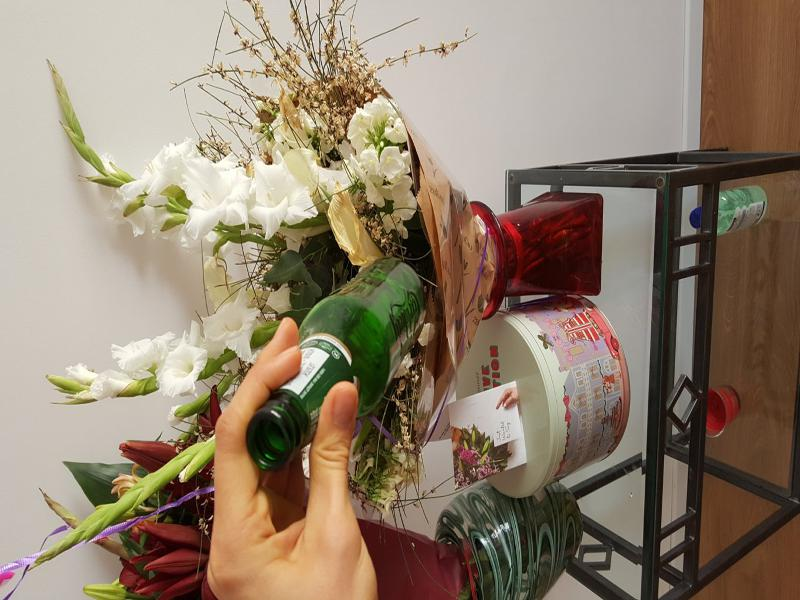Beer: (246, 259, 424, 467)
